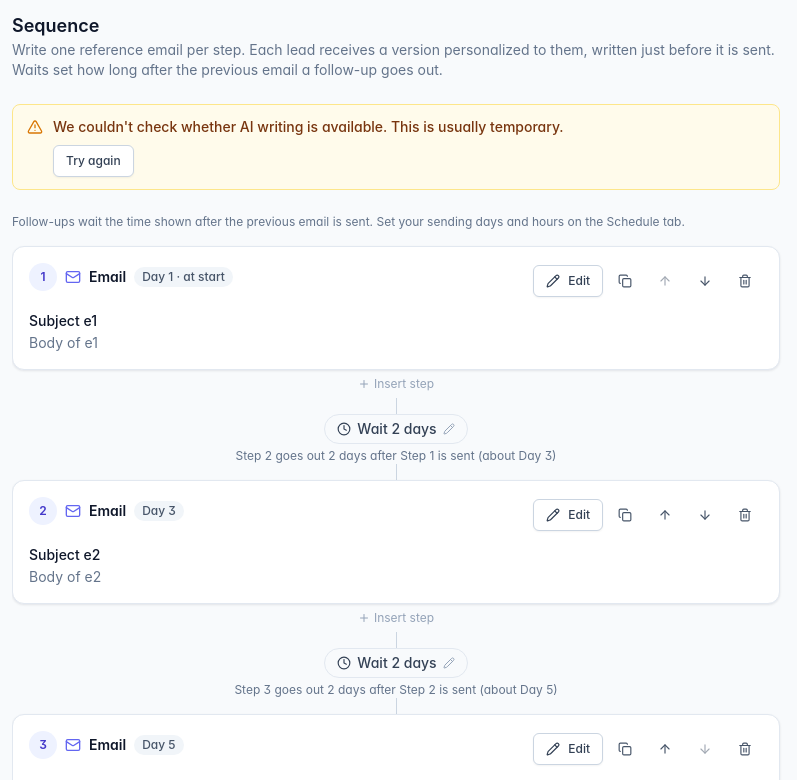
Test: Sequence tab: hyper-personalized campaigns › what each campaign type gets › does not claim AI is unavailable when the check itself failed, and recovers on retry
Expected: the text "couldn.t check whether AI writing is available" is shown, 53,118 -> 564,135
Expected: the element "Campaign setup" is not shown
Click the button "Try again": (93, 161) 53,145 -> 134,177
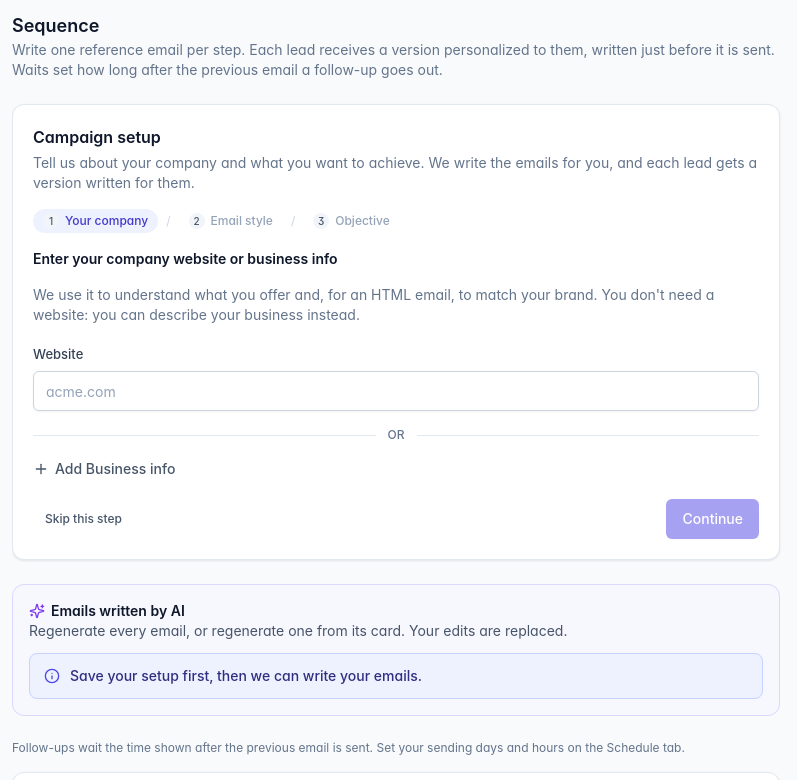
Result: the field labelled "Website" is enabled at 33,371 -> 759,411
